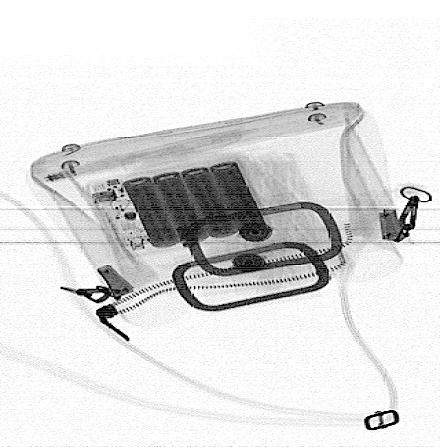Powerbank: (85, 157, 273, 260)
